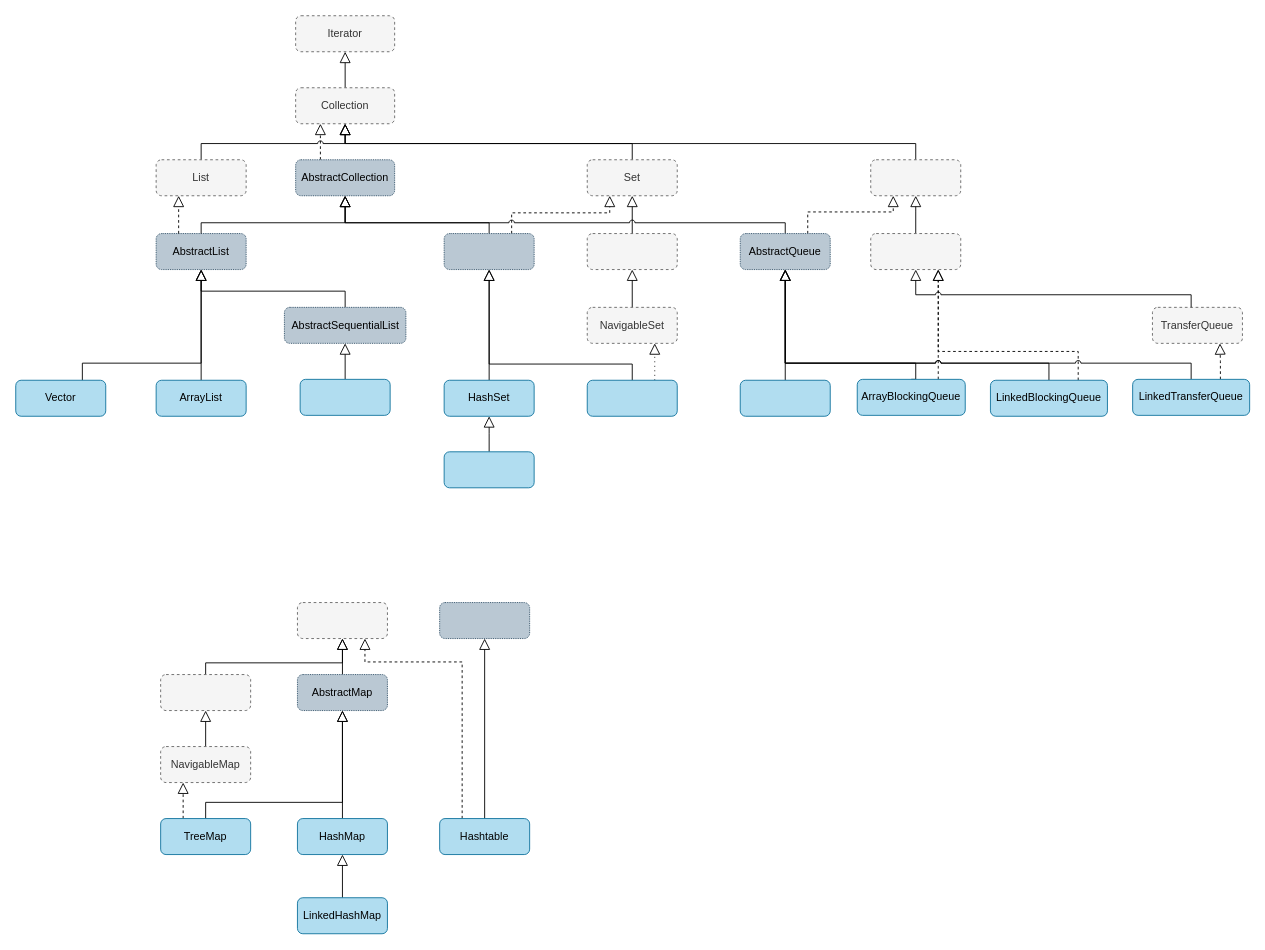
The diagram is 1265 pixels wide and 950 high, and some of its shapes have lost their labels. Here are the shapes that lost their labels. From the top down, the centre of each, then its label:
At (x=915, y=177): "Queue".
At (x=488, y=251): "AbstractSet".
At (x=631, y=251): "SortedSet".
At (x=915, y=251): "BlockingQueue".
At (x=344, y=396): "LinkedList".
At (x=631, y=397): "TreeSet".
At (x=784, y=397): "PriorityQueue".
At (x=488, y=469): "LinkedHashSet".
At (x=342, y=620): "Map".
At (x=484, y=620): "Dictionary".
At (x=205, y=692): "SortedMap".
